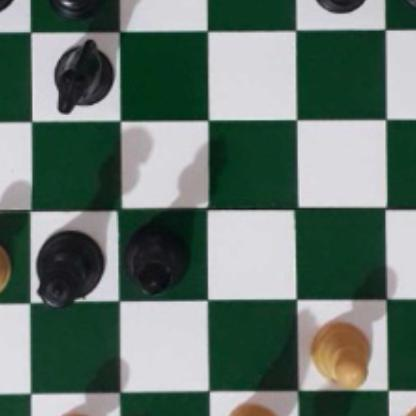black-bishop: (122, 219, 189, 294)
black-knight: (49, 36, 111, 109)
black-pawn: (45, 0, 103, 16), (311, 0, 371, 10), (0, 0, 14, 14), (400, 0, 416, 8)
black-queen: (31, 227, 103, 309)
white-knight: (221, 400, 285, 416)
white-pawn: (309, 316, 372, 387), (0, 232, 14, 300), (44, 408, 107, 416), (397, 399, 416, 416)
